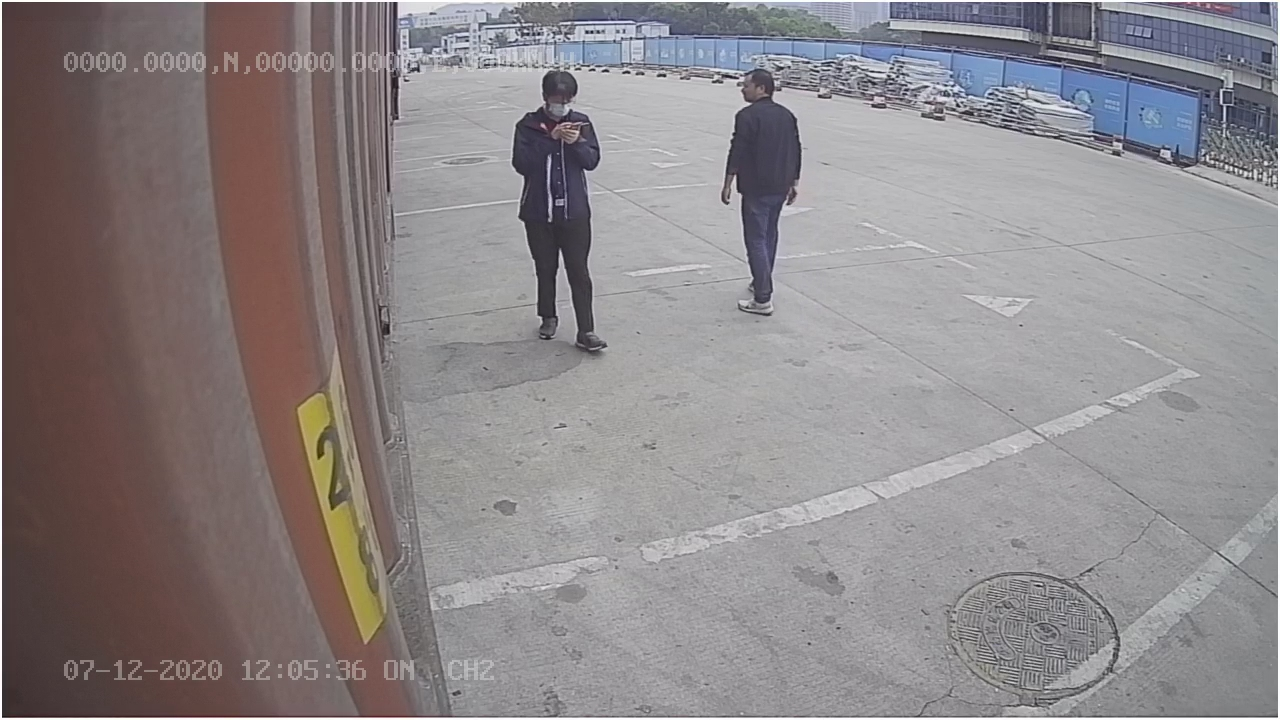person: (508, 62, 619, 352), (715, 67, 811, 323)
